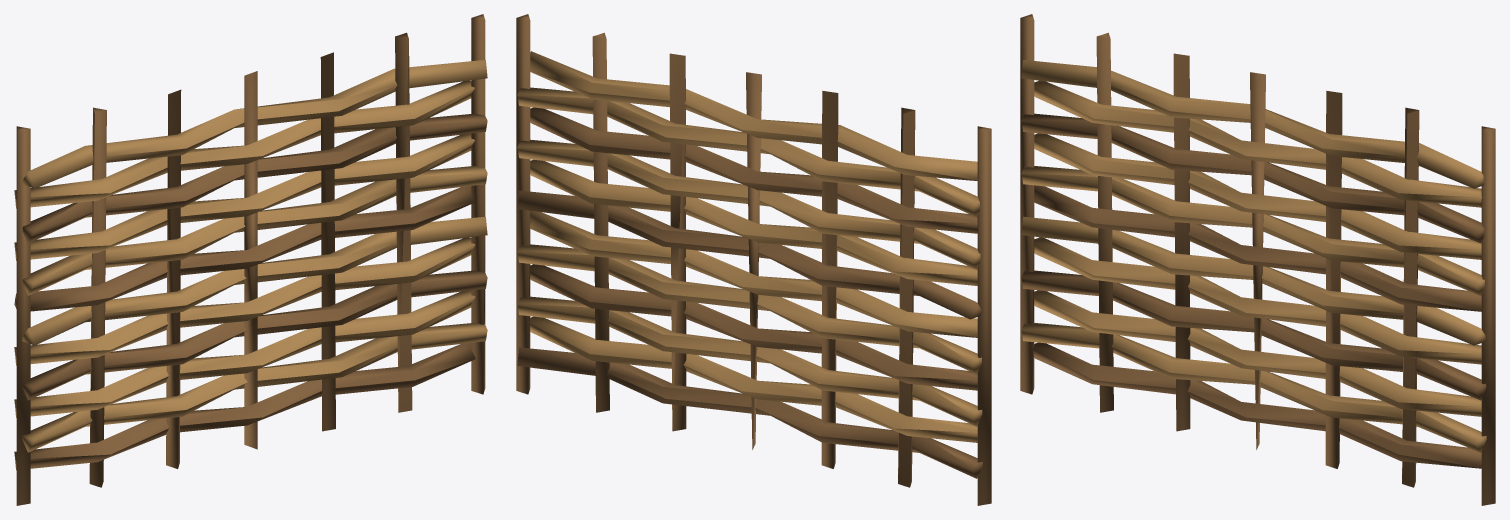
File: fence-willow-run.glb
The picture shows the model from 3 angles, left to right: view 1: azimuth 30°, elevation 25°; view 2: azimuth 150°, elevation 25°; view 3: azimuth 330°, elevation 25°; orthographic projection.
Visible parts, largest first — view 1: fence; view 2: fence; view 3: fence.
Boxes of the visible parts, x1,y1,x2,y2 form: fence: (14,14,487,505); fence: (516,14,991,505); fence: (1020,14,1495,505).
Bounding box in the file's own units: 1.03 × 0.78 × 0.0892.
